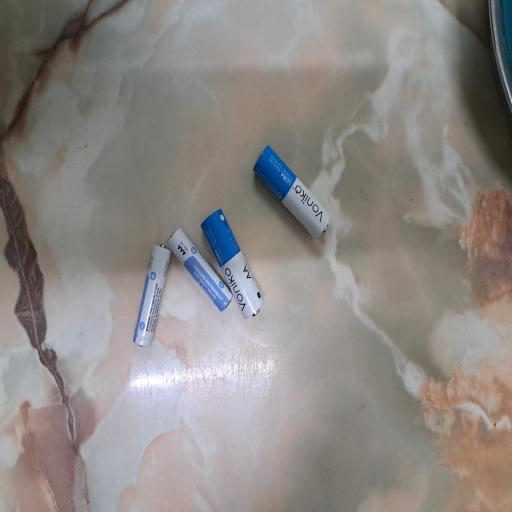battery: (253, 145, 331, 239), (200, 208, 265, 318), (169, 228, 234, 312), (132, 242, 172, 350)
